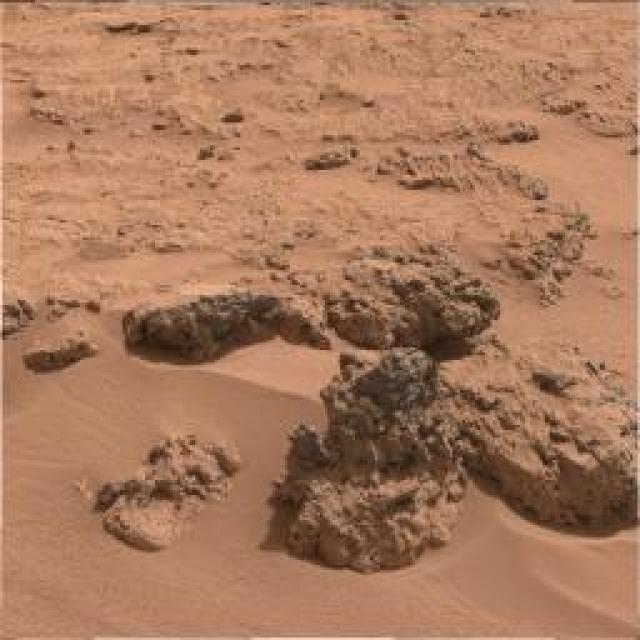rock: (268, 346, 460, 580), (448, 346, 640, 531), (324, 246, 504, 353), (90, 430, 245, 552), (118, 290, 330, 364), (19, 331, 96, 374), (46, 285, 103, 316), (0, 292, 38, 338)
